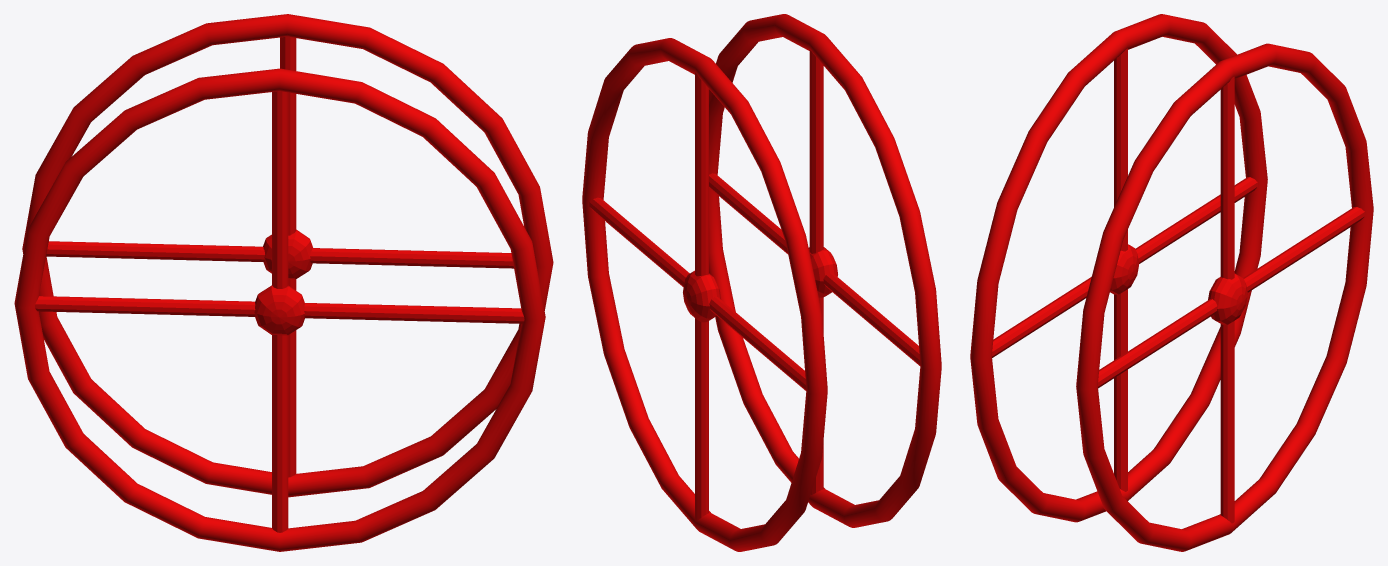
File: Extras_FerrisWheel.glb
3 views of the same model, side by side, from view 1: azimuth 30°, elevation 25°; view 2: azimuth 150°, elevation 25°; view 3: azimuth 270°, elevation 25° (orthographic).
Parts seen in each view (by area): view 1: Extras_FerrisWheel; view 2: Extras_FerrisWheel; view 3: Extras_FerrisWheel.
Part boxes in pixels (x1,y1,x2,y2): Extras_FerrisWheel: [14, 14, 553, 551]; Extras_FerrisWheel: [582, 14, 941, 551]; Extras_FerrisWheel: [970, 14, 1373, 551].
Size of the model in its own units: 10.74 by 11.01 by 8.5.
